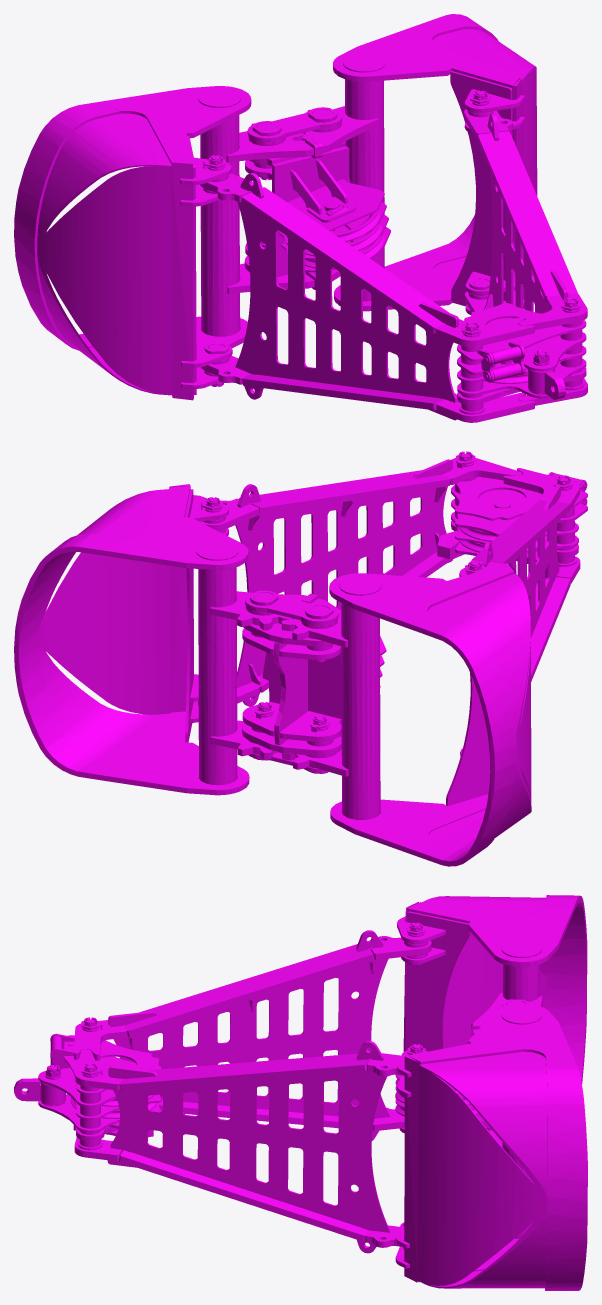
Rendered from MTRDG.fbx.
3 renders of one model, top to bottom at view 1: azimuth 30°, elevation 25°; view 2: azimuth 150°, elevation 25°; view 3: azimuth 270°, elevation 25°, orthographic. The views are drawn at different scales.
Parts seen in each view (by area): view 1: (A-09) TEKNE ARKA SACI, (D-01) KOL SACI.001, (A-10) TEKNE YAN SACI, (A-11) GÖVDE BORUSU, (A-02) TEKNE ALT SACI, (D-07) KOL SACI.003, (D-07) KOL SACI.001, (A-01) TEKNE YAN SACI.002, (A-03) TEKNE ARKA SACI, (A-01) TEKNE YAN SACI.001, (A-04) TEKNE ÜST SACI.001, (A-11) GÖVDE BORUSU.001 (+35 smaller); view 2: (A-09) TEKNE ARKA SACI.001, (D-01) KOL SACI, (A-10) TEKNE YAN SACI.001, (A-10) TEKNE YAN SACI, (A-11) GÖVDE BORUSU, (A-11) GÖVDE BORUSU.001, (A-02) TEKNE ALT SACI, (A-02) TEKNE ALT SACI.001, (A-01) TEKNE YAN SACI.002, (A-01) TEKNE YAN SACI.001, (A-01) TEKNE YAN SACI.003, (A-01) TEKNE YAN SACI (+30 smaller); view 3: (D-01) KOL SACI, (A-09) TEKNE ARKA SACI.001, (D-01) KOL SACI.001, (A-10) TEKNE YAN SACI.001, (A-02) TEKNE ALT SACI.001, (D-07) KOL SACI.003, (A-02) TEKNE ALT SACI, (A-04) TEKNE ÜST SACI, (A-01) TEKNE YAN SACI.001, (D-07) KOL SACI.001, (A-09) TEKNE ARKA SACI, (A-01) TEKNE YAN SACI.002 (+19 smaller).
Boxes of the visible parts, <box> form: (A-09) TEKNE ARKA SACI: <box>37,166,172,393</box>; (D-01) KOL SACI.001: <box>235,191,456,402</box>; (A-10) TEKNE YAN SACI: <box>37,113,173,395</box>; (A-11) GÖVDE BORUSU: <box>200,115,240,336</box>; (A-02) TEKNE ALT SACI: <box>14,101,119,350</box>; (D-07) KOL SACI.003: <box>241,187,449,333</box>; (D-07) KOL SACI.001: <box>477,131,577,301</box>; (A-01) TEKNE YAN SACI.002: <box>333,23,519,90</box>; (A-03) TEKNE ARKA SACI: <box>171,163,193,400</box>; (A-01) TEKNE YAN SACI.001: <box>105,86,251,168</box>; (A-04) TEKNE ÜST SACI.001: <box>450,71,512,305</box>; (A-11) GÖVDE BORUSU.001: <box>345,79,384,301</box>; (A-09) TEKNE ARKA SACI.001: <box>39,552,170,714</box>; (D-01) KOL SACI: <box>235,474,447,687</box>; (A-10) TEKNE YAN SACI.001: <box>39,489,169,765</box>; (A-10) TEKNE YAN SACI: <box>428,573,531,848</box>; (A-11) GÖVDE BORUSU: <box>341,603,380,819</box>; (A-11) GÖVDE BORUSU.001: <box>198,567,237,785</box>; (A-02) TEKNE ALT SACI: <box>420,617,516,866</box>; (A-02) TEKNE ALT SACI.001: <box>14,534,118,780</box>; (A-01) TEKNE YAN SACI.002: <box>104,486,248,570</box>; (A-01) TEKNE YAN SACI.001: <box>329,563,514,632</box>; (A-01) TEKNE YAN SACI.003: <box>105,711,249,795</box>; (A-01) TEKNE YAN SACI: <box>330,794,488,857</box>; (D-01) KOL SACI: <box>110,1058,390,1232</box>; (A-09) TEKNE ARKA SACI.001: <box>417,1066,547,1285</box>; (D-01) KOL SACI.001: <box>113,947,389,1118</box>; (A-10) TEKNE YAN SACI.001: <box>416,1051,547,1288</box>; (A-02) TEKNE ALT SACI.001: <box>545,1056,587,1290</box>; (D-07) KOL SACI.003: <box>123,944,374,1036</box>; (A-02) TEKNE ALT SACI: <box>545,895,587,1083</box>; (A-04) TEKNE ÜST SACI: <box>405,911,470,1051</box>; (A-01) TEKNE YAN SACI.001: <box>407,902,572,966</box>; (D-07) KOL SACI.001: <box>119,1053,369,1090</box>; (A-09) TEKNE ARKA SACI: <box>443,932,546,1048</box>; (A-01) TEKNE YAN SACI.002: <box>408,1003,572,1064</box>.
Bounding box in the file's own units: 3.93 × 1.82 × 4.25.
